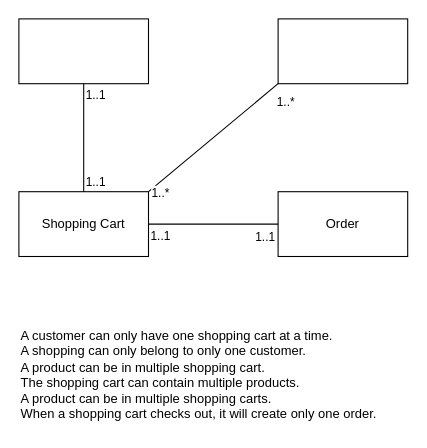
Some shapes in this 427 by 448 pixel diagram are drawn without their labels. Each missing label, with the box of its shape:
Customer: (18, 18, 148, 84)
Product: (277, 18, 408, 84)
